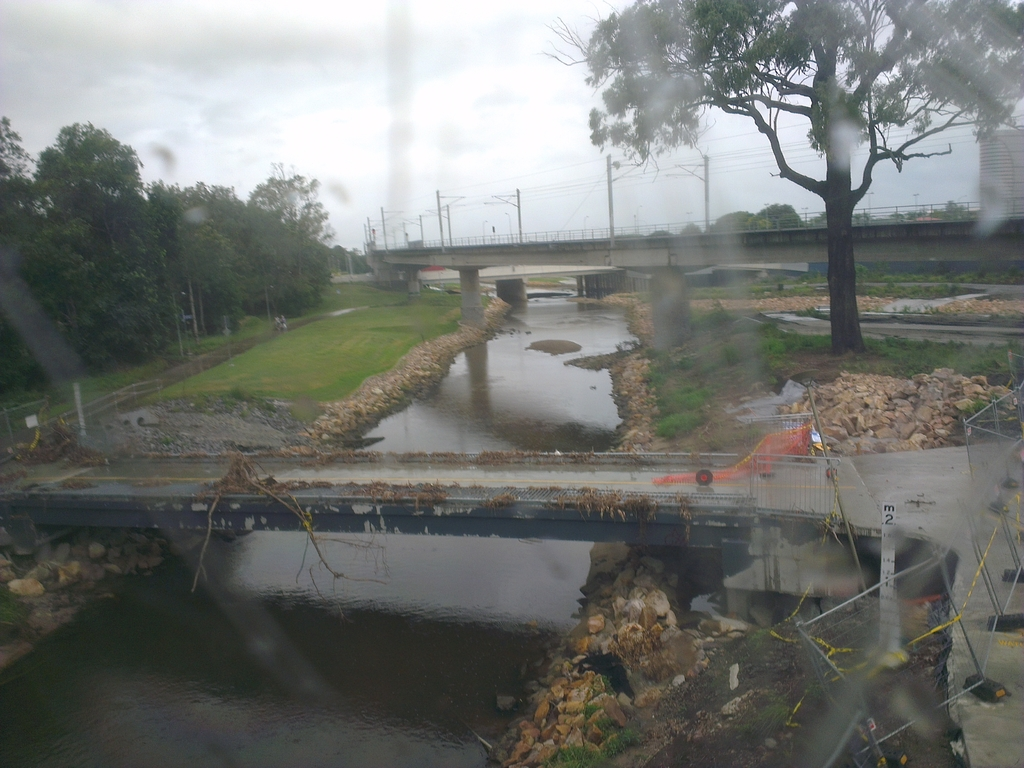Tree: (539, 0, 1024, 354), (0, 113, 336, 393), (613, 200, 989, 237)
